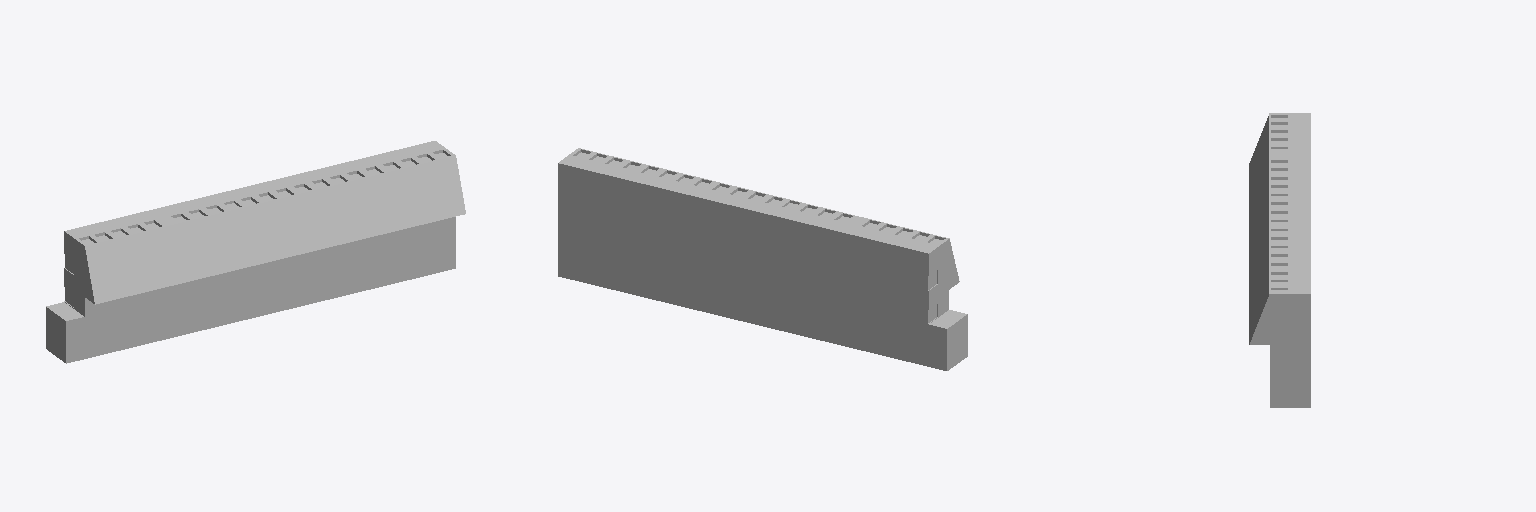
File: ZST warsztat.obj
The picture shows the model from 3 angles: view 1: azimuth 30°, elevation 25°; view 2: azimuth 150°, elevation 25°; view 3: azimuth 270°, elevation 25°; orthographic projection.
Visible parts, largest first — view 1: obj_0; view 2: obj_0; view 3: obj_0.
Part boxes in pixels (x1,y1,x2,y2): obj_0: (46,141,465,363); obj_0: (558,148,967,370); obj_0: (1249,113,1310,407).
Size of the model in its own units: 144 by 39.99 by 19.73.